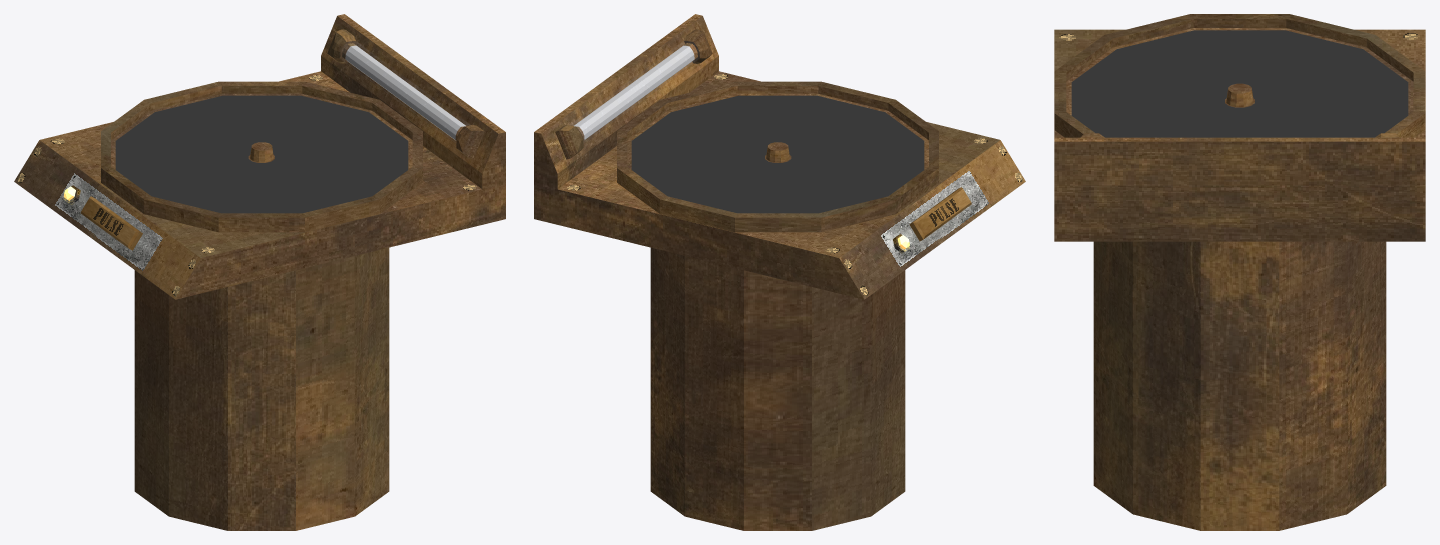
The model's file is radar.glb.
3 renders of one model, left to right at view 1: azimuth 30°, elevation 25°; view 2: azimuth 150°, elevation 25°; view 3: azimuth 270°, elevation 25°, orthographic. The views are drawn at different scales.
Visible parts, largest first — view 1: radar_body, radar_top, radar_bar, radar_button; view 2: radar_body, radar_top, radar_bar, radar_button; view 3: radar_body, radar_top.
Part boxes in pixels (<box>): radar_body: <box>101,81,422,530</box>; radar_top: <box>14,14,505,299</box>; radar_bar: <box>327,29,484,159</box>; radar_button: <box>80,196,142,250</box>; radar_body: <box>617,81,938,530</box>; radar_top: <box>534,14,1025,299</box>; radar_bar: <box>555,29,712,159</box>; radar_button: <box>909,187,971,241</box>; radar_body: <box>1054,14,1425,530</box>; radar_top: <box>1054,29,1425,241</box>.
Size of the model in its own units: 0.7692 by 0.81 by 0.6504.
Materials: 8 (5 with a texture image).
